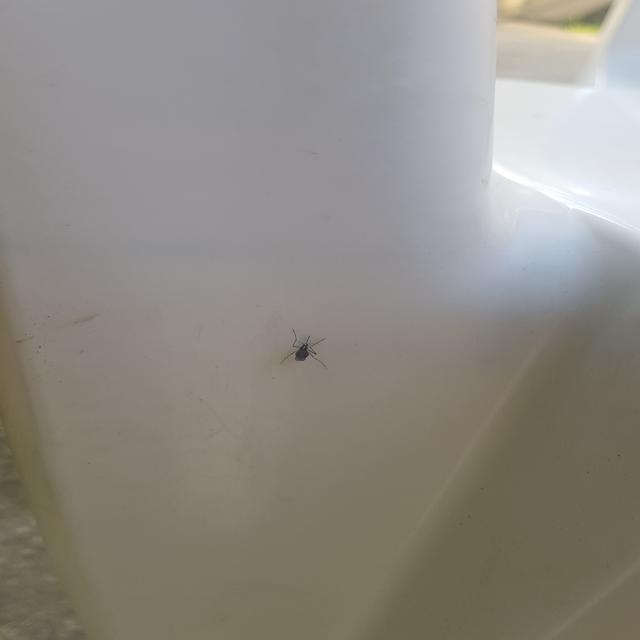albopictus: (271, 326, 336, 369)
